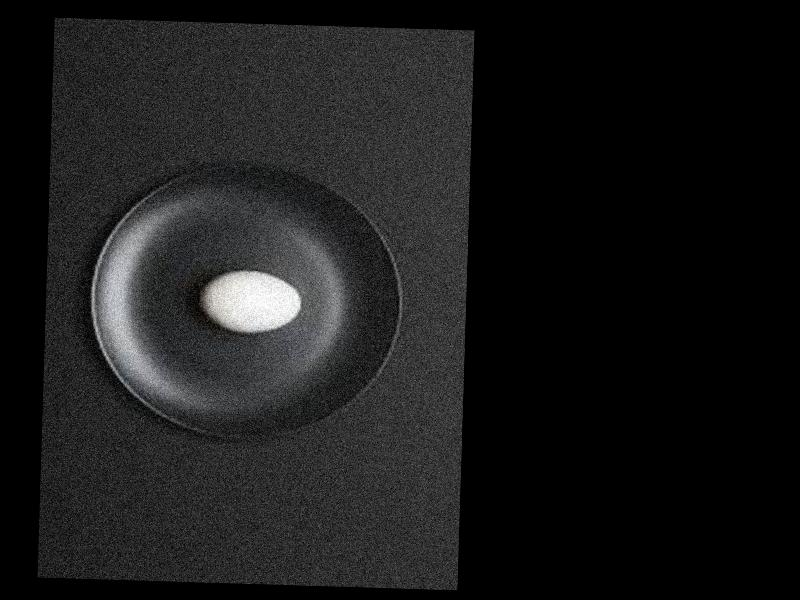Eggs: (200, 269, 301, 335)
